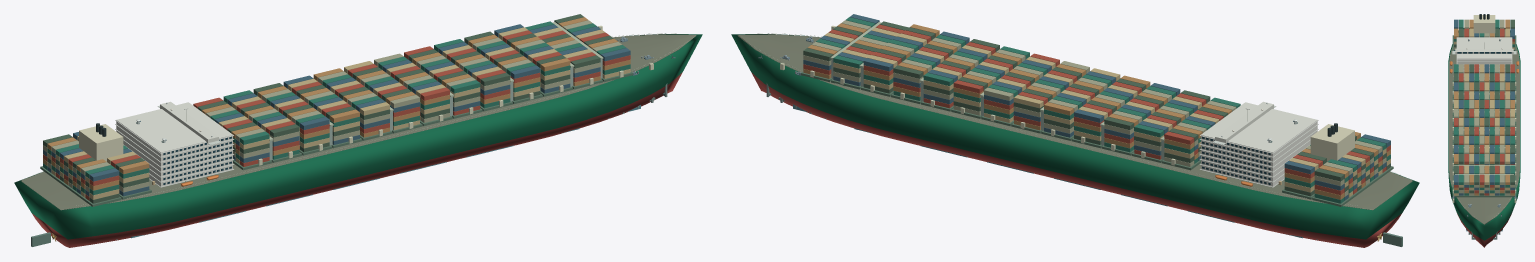
File: ever-ace.lod0.glb
3 views of the same model, side by side, from view 1: azimuth 30°, elevation 25°; view 2: azimuth 150°, elevation 25°; view 3: azimuth 270°, elevation 25° (orthographic). The views are drawn at different scales.
Visible parts, largest first — view 1: ever-ace.structure.hull.outer-hull-shell.1, ever-ace.structure.decks.main-strength-deck.1, ever-ace.structure.hull.antifouling-underwater-shell.1, ever-ace.accommodation.superstructure.deck-7-enclosure.1, ever-ace.propulsion.exhaust.exhaust-casing.1, ever-ace.navigation.bridge.wheelhouse.1, ever-ace.accommodation.superstructure.deck-6-enclosure.1, ever-ace.accommodation.superstructure.deck-5-enclosure.1, ever-ace.accommodation.superstructure.deck-4-enclosure.1; view 2: ever-ace.structure.hull.outer-hull-shell.1, ever-ace.structure.decks.main-strength-deck.1, ever-ace.structure.hull.antifouling-underwater-shell.1, ever-ace.accommodation.superstructure.deck-7-enclosure.1, ever-ace.propulsion.exhaust.exhaust-casing.1, ever-ace.navigation.bridge.wheelhouse.1, ever-ace.accommodation.superstructure.deck-6-enclosure.1, ever-ace.accommodation.superstructure.deck-5-enclosure.1, ever-ace.accommodation.superstructure.deck-4-enclosure.1; view 3: ever-ace.structure.decks.main-strength-deck.1, ever-ace.structure.hull.outer-hull-shell.1, ever-ace.accommodation.superstructure.deck-7-enclosure.1, ever-ace.propulsion.exhaust.exhaust-casing.1, ever-ace.navigation.bridge.wheelhouse.1, ever-ace.cargo.hatch-covers.cargo-hatch-18.1, ever-ace.accommodation.superstructure.deck-6-enclosure.1, ever-ace.structure.hull.antifouling-underwater-shell.1, ever-ace.cargo.hatch-covers.cargo-hatch-14.1, ever-ace.cargo.hatch-covers.cargo-hatch-12.1, ever-ace.cargo.hatch-covers.cargo-hatch-8.1, ever-ace.cargo.hatch-covers.cargo-hatch-17.1 (+59 smaller).
Boxes of the visible parts, box(x1,y1,x2,y2) form: ever-ace.structure.hull.outer-hull-shell.1: box(14, 33, 702, 239); ever-ace.structure.decks.main-strength-deck.1: box(21, 34, 696, 210); ever-ace.structure.hull.antifouling-underwater-shell.1: box(32, 72, 682, 247); ever-ace.accommodation.superstructure.deck-7-enclosure.1: box(116, 102, 232, 156); ever-ace.propulsion.exhaust.exhaust-casing.1: box(79, 124, 123, 161); ever-ace.navigation.bridge.wheelhouse.1: box(160, 101, 218, 143); ever-ace.accommodation.superstructure.deck-6-enclosure.1: box(116, 125, 232, 161); ever-ace.accommodation.superstructure.deck-5-enclosure.1: box(116, 130, 232, 166); ever-ace.accommodation.superstructure.deck-4-enclosure.1: box(123, 140, 232, 171); ever-ace.structure.hull.outer-hull-shell.1: box(731, 33, 1419, 239); ever-ace.structure.decks.main-strength-deck.1: box(737, 34, 1412, 210); ever-ace.structure.hull.antifouling-underwater-shell.1: box(751, 72, 1401, 247); ever-ace.accommodation.superstructure.deck-7-enclosure.1: box(1201, 102, 1317, 156); ever-ace.propulsion.exhaust.exhaust-casing.1: box(1310, 124, 1354, 161); ever-ace.navigation.bridge.wheelhouse.1: box(1215, 101, 1273, 143); ever-ace.accommodation.superstructure.deck-6-enclosure.1: box(1201, 125, 1317, 161); ever-ace.accommodation.superstructure.deck-5-enclosure.1: box(1201, 130, 1317, 166); ever-ace.accommodation.superstructure.deck-4-enclosure.1: box(1201, 140, 1310, 171); ever-ace.structure.decks.main-strength-deck.1: box(1449, 29, 1519, 224); ever-ace.structure.hull.outer-hull-shell.1: box(1448, 28, 1520, 240); ever-ace.accommodation.superstructure.deck-7-enclosure.1: box(1457, 37, 1511, 61); ever-ace.propulsion.exhaust.exhaust-casing.1: box(1473, 15, 1495, 37); ever-ace.navigation.bridge.wheelhouse.1: box(1455, 48, 1513, 54); ever-ace.cargo.hatch-covers.cargo-hatch-18.1: box(1452, 187, 1516, 197); ever-ace.accommodation.superstructure.deck-6-enclosure.1: box(1457, 61, 1511, 64); ever-ace.structure.hull.antifouling-underwater-shell.1: box(1457, 213, 1511, 247); ever-ace.cargo.hatch-covers.cargo-hatch-14.1: box(1452, 151, 1516, 160); ever-ace.cargo.hatch-covers.cargo-hatch-12.1: box(1452, 133, 1516, 142); ever-ace.cargo.hatch-covers.cargo-hatch-8.1: box(1452, 98, 1516, 106); ever-ace.cargo.hatch-covers.cargo-hatch-17.1: box(1452, 178, 1516, 187).
Bounding box in the file's own units: 401 × 59.53 × 61.5.
